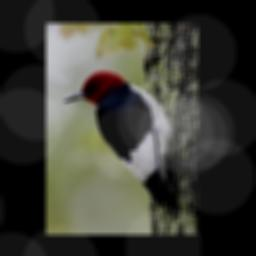Woodpecker: (57, 68, 186, 219)
